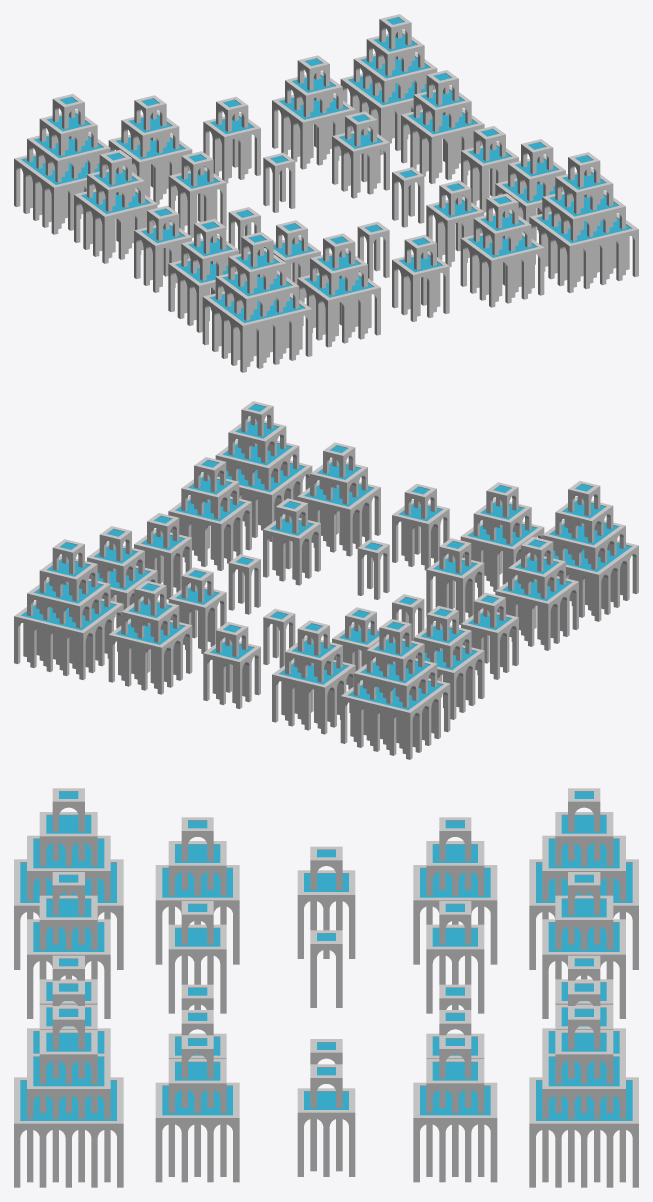
File: world.obj
3 views of the same model, one above another, from view 1: azimuth 30°, elevation 25°; view 2: azimuth 150°, elevation 25°; view 3: azimuth 270°, elevation 25° (orthographic). The views are drawn at different scales.
Parts seen in each view (by area): view 1: block, water; view 2: block, water; view 3: block, water.
Boxes of the visible parts, <box> form: block: <box>14,14,638,372</box>; water: <box>21,17,631,322</box>; block: <box>14,401,638,759</box>; water: <box>21,404,631,709</box>; block: <box>14,788,638,1187</box>; water: <box>20,791,632,1120</box>.
Size of the model in its own units: 970 by 260 by 970.
